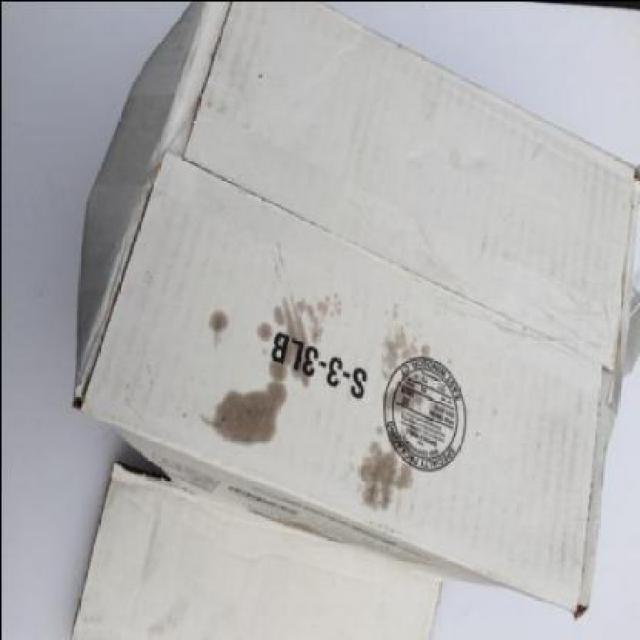box: (74, 2, 638, 619), (68, 460, 445, 638)
